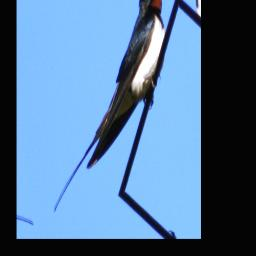Swallow: (27, 0, 190, 215)
